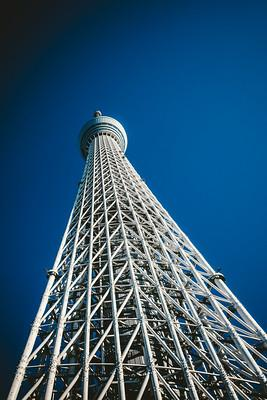building: (7, 108, 267, 400)
